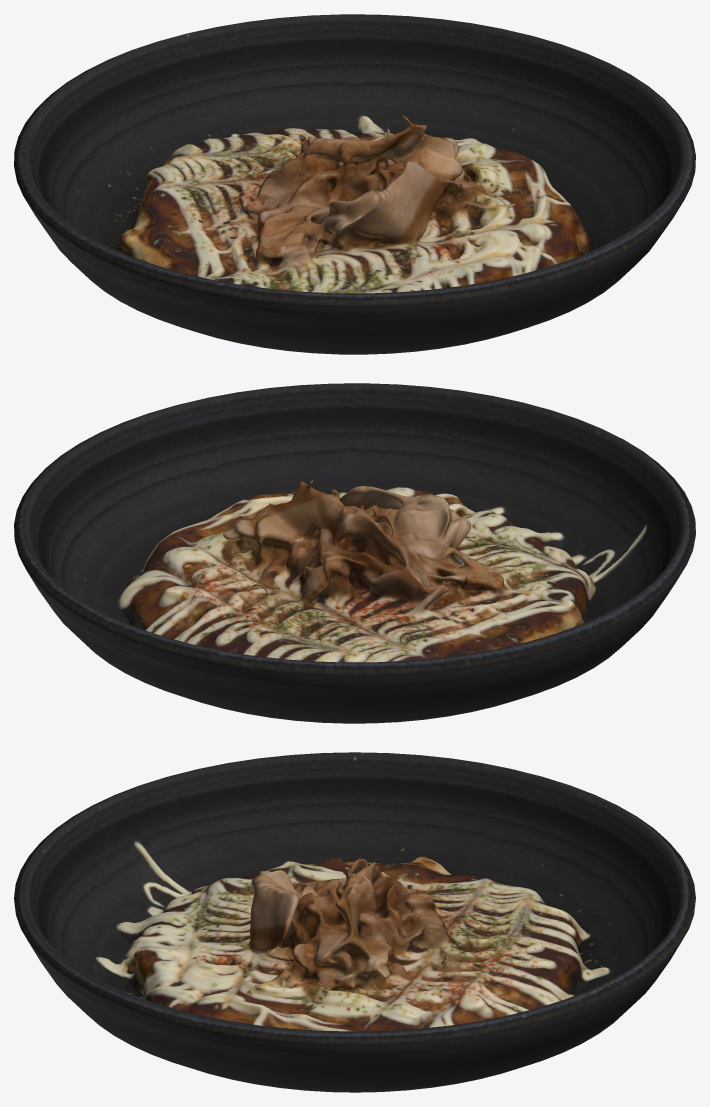
File: okonomiyaki_(pancake).FBX
The picture shows the model from 3 angles, top to bottom: view 1: azimuth 30°, elevation 25°; view 2: azimuth 150°, elevation 25°; view 3: azimuth 270°, elevation 25°; orthographic projection.
Visible parts, largest first — view 1: okonomiyaki (pancake); view 2: okonomiyaki (pancake); view 3: okonomiyaki (pancake).
Boxes of the visible parts, bbox=[...] form: okonomiyaki (pancake): bbox=[14, 14, 695, 354]; okonomiyaki (pancake): bbox=[14, 383, 695, 723]; okonomiyaki (pancake): bbox=[14, 752, 695, 1092].
Size of the model in its own units: 4.33 by 0.949 by 4.33.
1 material, 1 textured.
